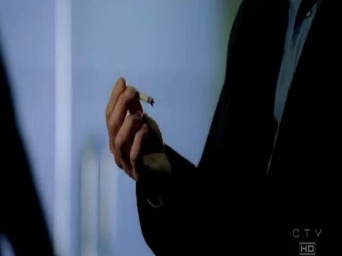smoke: (130, 89, 155, 106)
